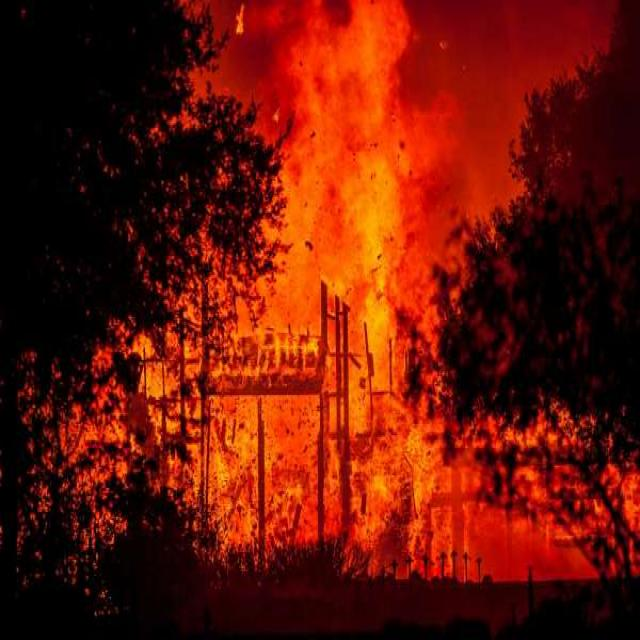Fire: (118, 16, 449, 544)
